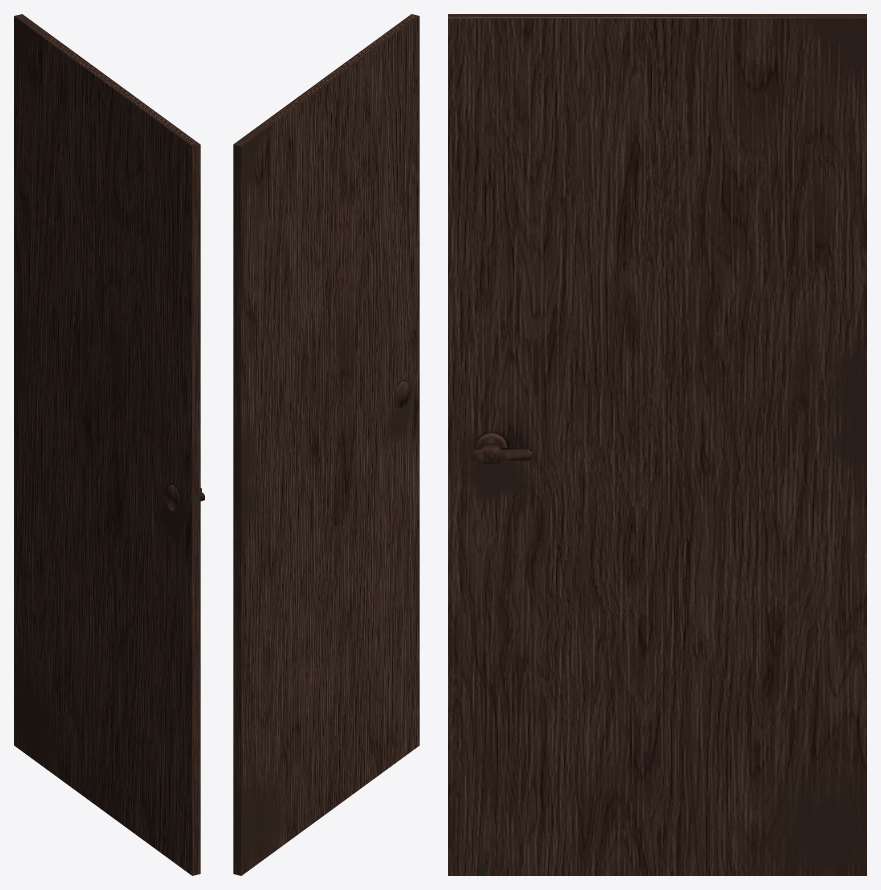
3 views of the same model, side by side, from view 1: azimuth 30°, elevation 25°; view 2: azimuth 150°, elevation 25°; view 3: azimuth 270°, elevation 25° (orthographic). The views are drawn at different scales.
Visible parts, largest first — view 1: door1; view 2: door1; view 3: door1.
Part boxes in pixels (x1,y1,x2,y2): door1: (14, 14, 204, 875); door1: (233, 14, 419, 875); door1: (448, 14, 866, 875).
Bounding box in the file's own units: 0.27 × 6.42 × 2.84.
Materials: 1 (1 with a texture image).
